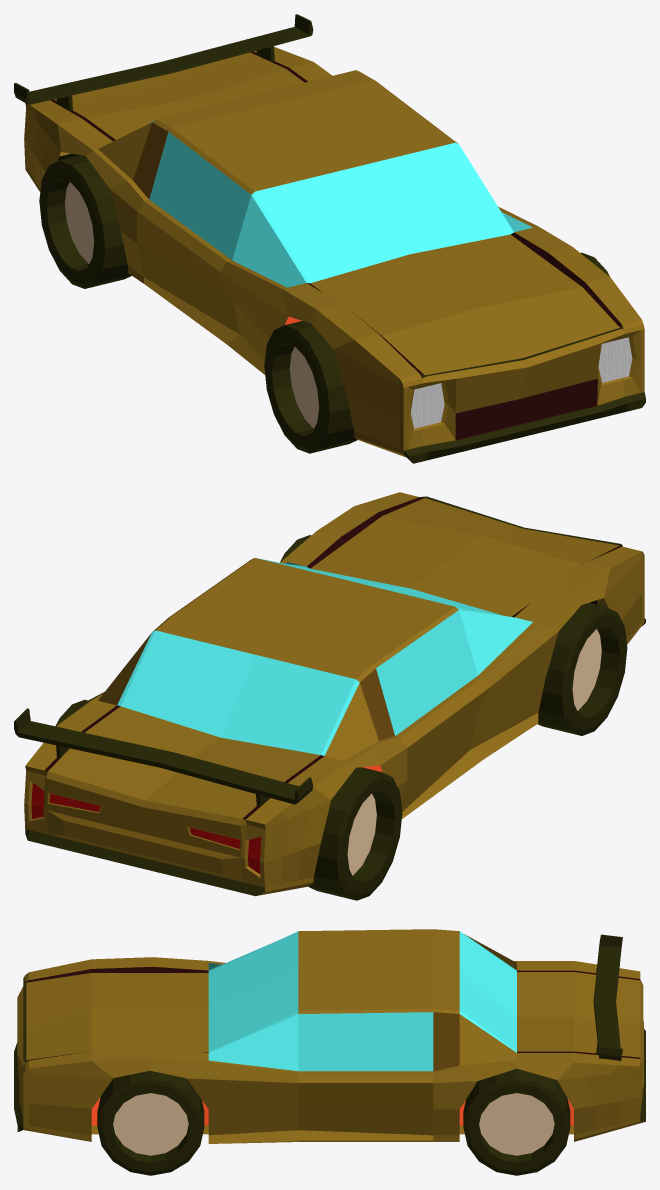
Rendered from car03.fbx.
The picture shows the model from 3 angles, top to bottom: view 1: azimuth 30°, elevation 25°; view 2: azimuth 150°, elevation 25°; view 3: azimuth 270°, elevation 25°; orthographic projection. The views are drawn at different scales.
Parts seen in each view (by area): view 1: car03; view 2: car03; view 3: car03.
Boxes of the visible parts, x1=… form: car03: x1=14, y1=14, x2=645, y2=463; car03: x1=14, y1=492, x2=645, y2=900; car03: x1=14, y1=929, x2=645, y2=1175.
Size of the model in its own units: 89.79 by 51.84 by 201.
